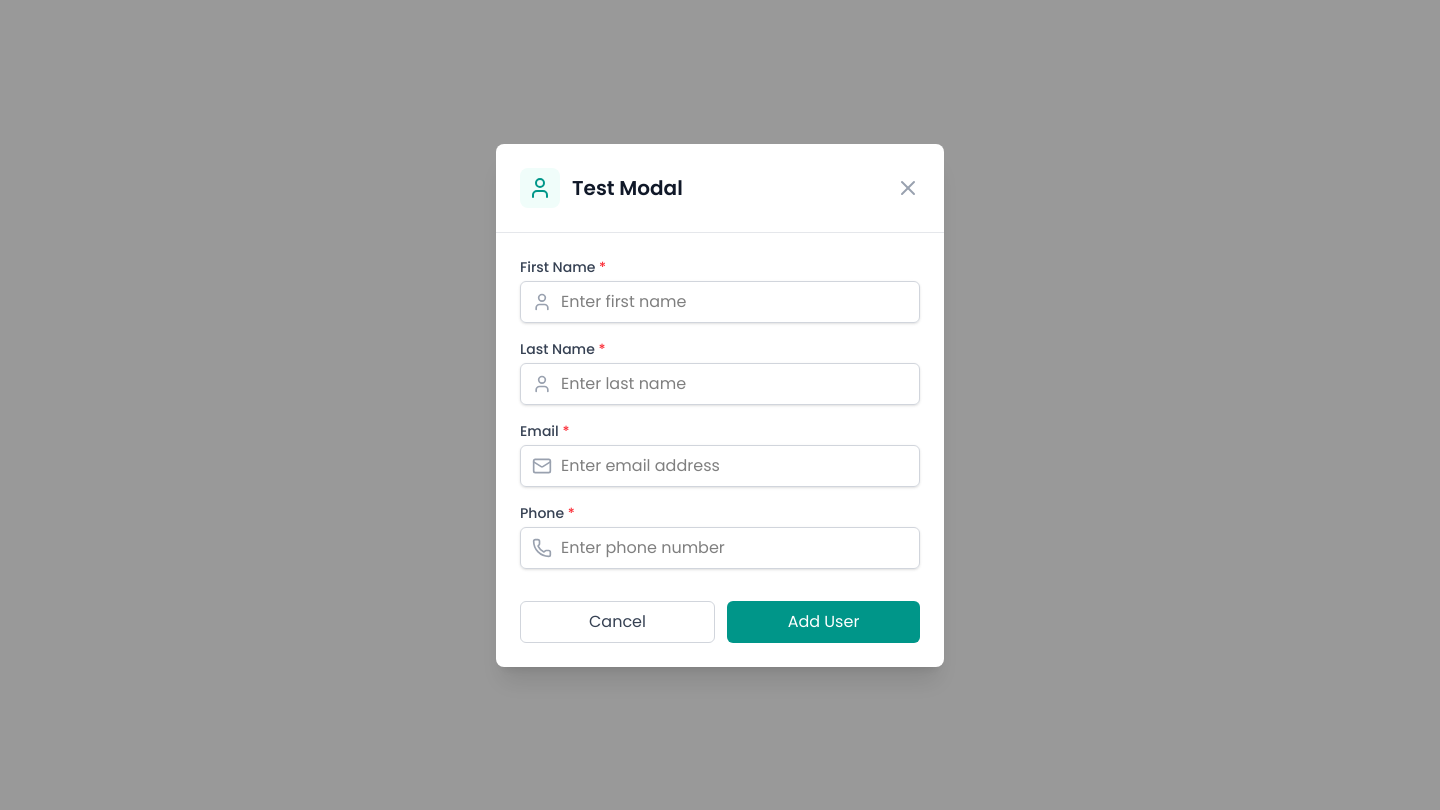
Scenario: BaseUserModal › Rendering and Interactions › should prevent submission if validation fails
The width and height of the screenshot is (1440, 810).
Click the button "Add User" at (824, 622), box x1=727 y1=600 x2=920 y2=642
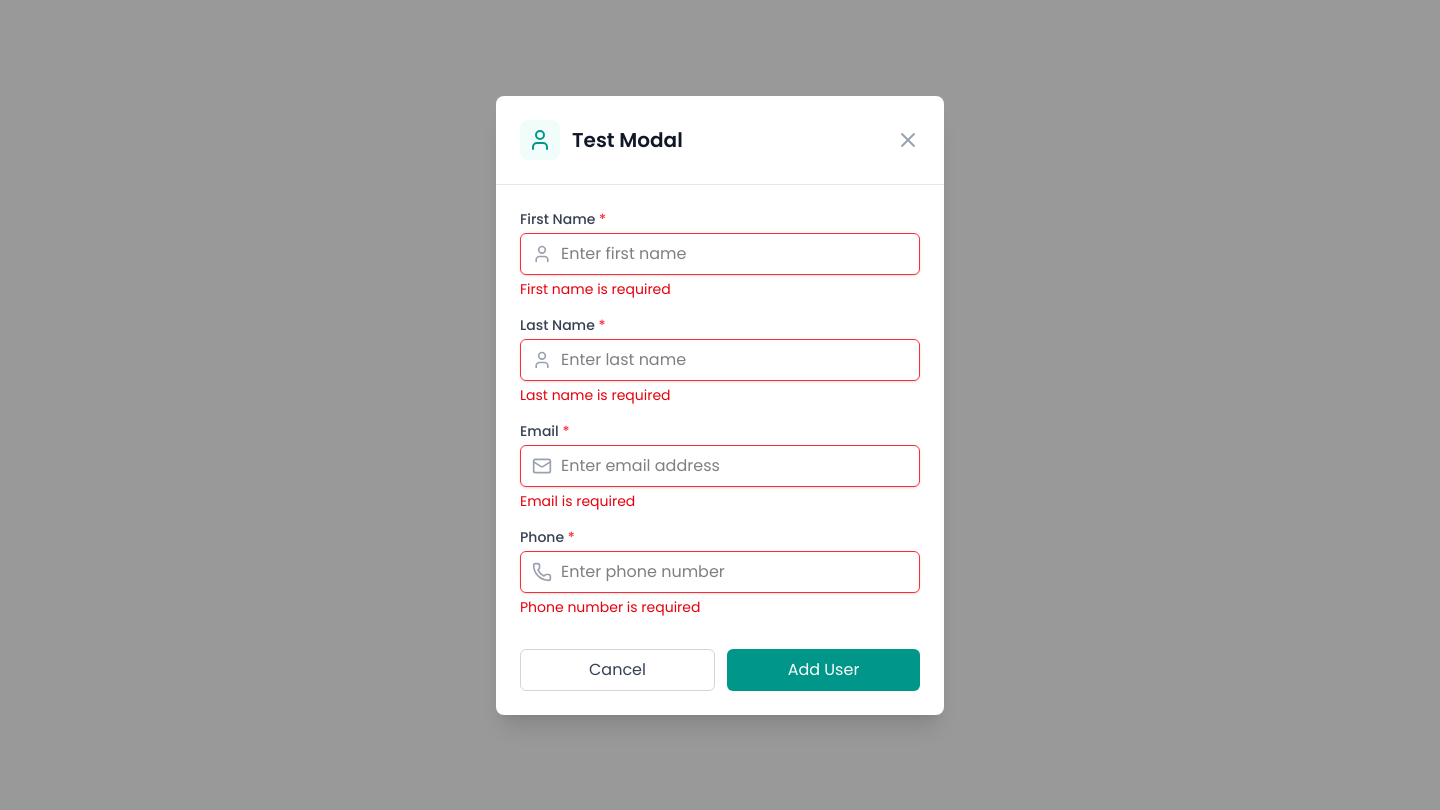
Expected: the text "First name is required" is shown, x1=520 y1=278 x2=671 y2=298
